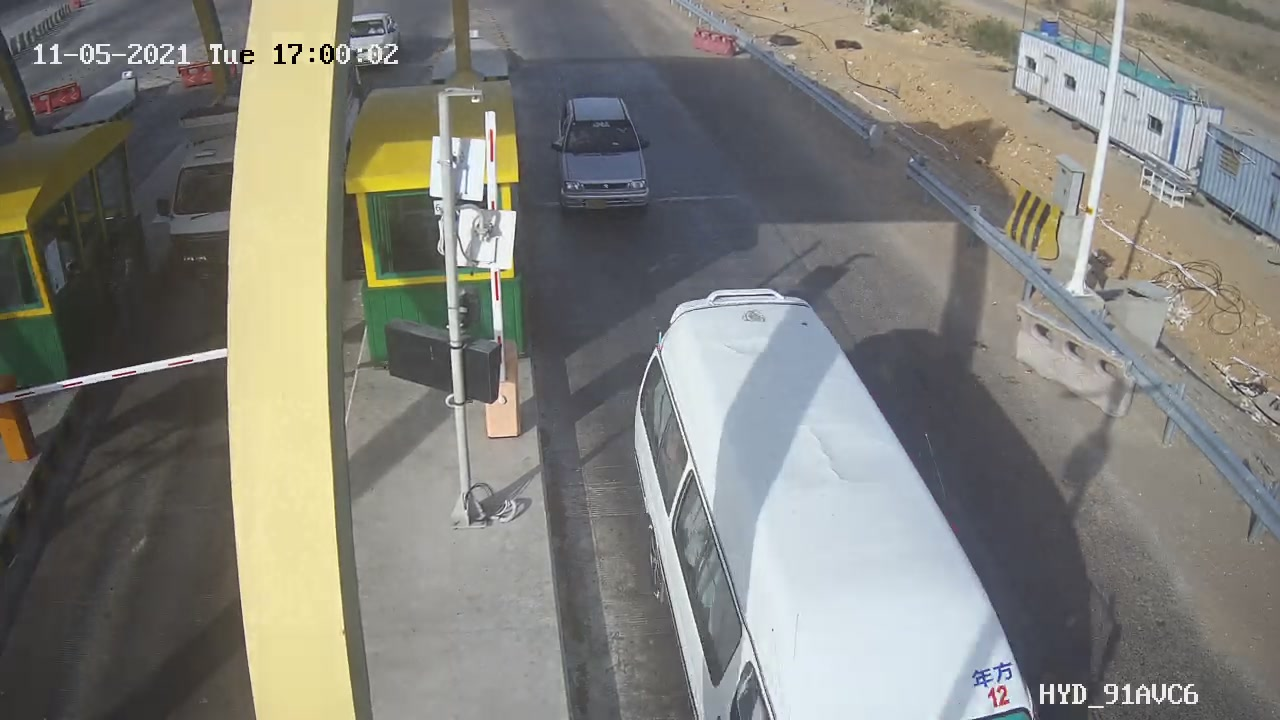F1: (533, 79, 666, 224)
